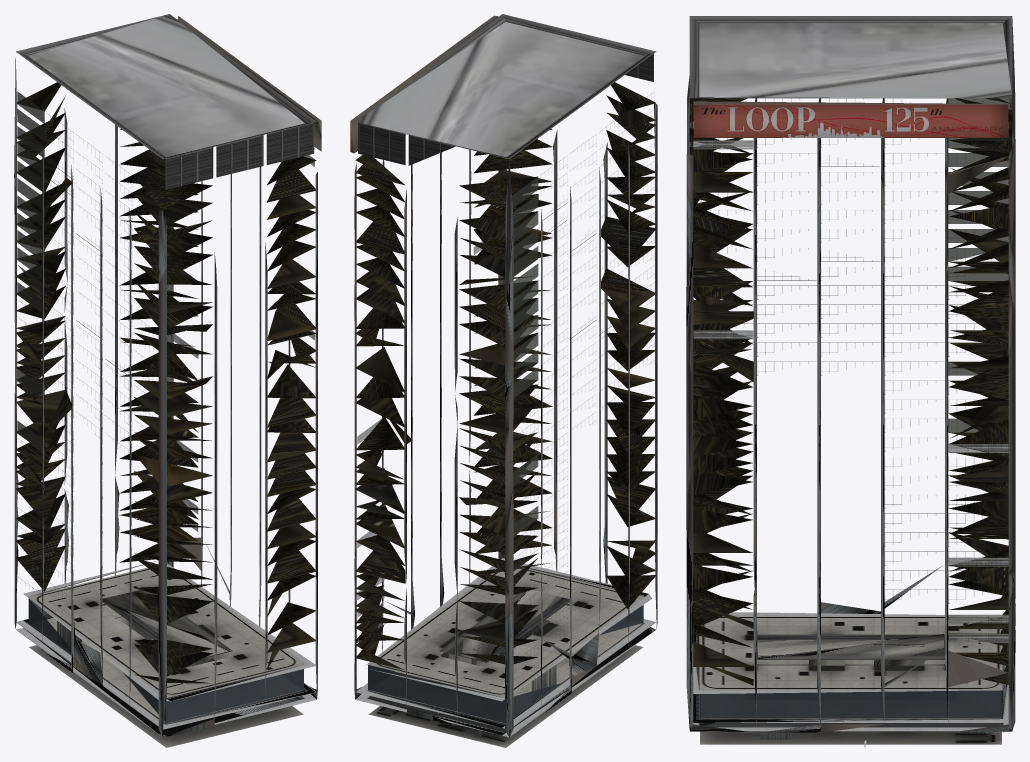
Rendered from toa-van-phong.glb.
3 views of the same model, side by side, from view 1: azimuth 30°, elevation 25°; view 2: azimuth 150°, elevation 25°; view 3: azimuth 270°, elevation 25° (orthographic). The views are drawn at different scales.
Parts seen in each view (by area): view 1: Cube.012, Cube.002, Cube.009, Cube.005, Cube.006, Cube.007, Cube.001, Cube.003; view 2: Cube.012, Cube.002, Cube.009, Cube.005, Cube.007, Cube.006, Cube.001, Cube.003; view 3: Cube.002, Cube.012, Cube.009, Cube.004, Cube.007, Cube.001, Cube.003, Cube.005.
Boxes of the visible parts, x1=… form: Cube.012: x1=16, y1=82, x2=316, y2=683; Cube.002: x1=14, y1=14, x2=321, y2=737; Cube.009: x1=28, y1=563, x2=304, y2=747; Cube.005: x1=17, y1=91, x2=44, y2=452; Cube.006: x1=165, y1=122, x2=314, y2=189; Cube.007: x1=28, y1=598, x2=303, y2=723; Cube.001: x1=17, y1=111, x2=159, y2=624; Cube.003: x1=57, y1=155, x2=314, y2=647; Cube.012: x1=355, y1=82, x2=656, y2=670; Cube.002: x1=350, y1=14, x2=657, y2=737; Cube.009: x1=367, y1=568, x2=644, y2=747; Cube.005: x1=512, y1=177, x2=538, y2=536; Cube.007: x1=368, y1=604, x2=643, y2=723; Cube.006: x1=358, y1=54, x2=653, y2=165; Cube.001: x1=514, y1=96, x2=654, y2=678; Cube.003: x1=357, y1=241, x2=556, y2=738; Cube.002: x1=686, y1=16, x2=1015, y2=732; Cube.012: x1=689, y1=98, x2=1012, y2=685; Cube.009: x1=699, y1=615, x2=1002, y2=744; Cube.004: x1=693, y1=104, x2=1008, y2=137; Cube.007: x1=700, y1=690, x2=1001, y2=717; Cube.001: x1=693, y1=98, x2=999, y2=603; Cube.003: x1=693, y1=140, x2=1008, y2=739; Cube.005: x1=948, y1=98, x2=1008, y2=432.
Bounding box in the file's own units: 0.2869 × 1 × 0.4569.
Materials: 12 (11 with a texture image).
